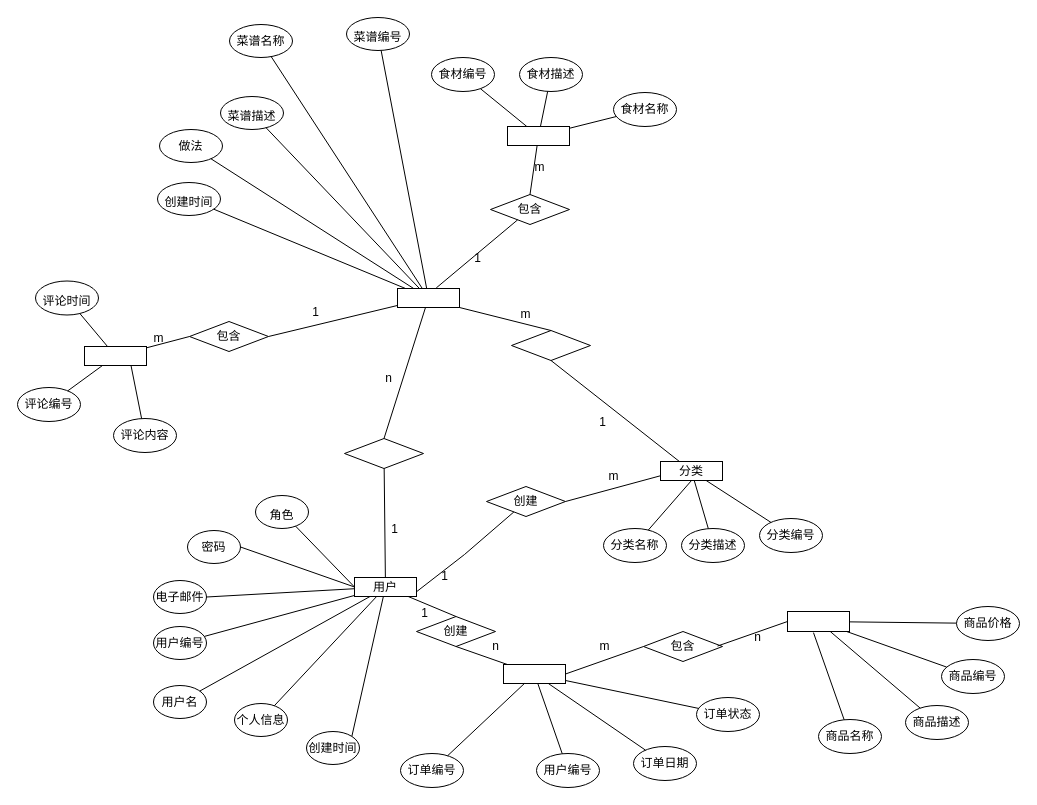
This 1037x805 diagram has some shape labels left out. The shapes that lost their labels are listed below. From the top down, each one's centre as x and y in pixels, then its label:
At point 538,136: "食材".
At point 428,298: "菜谱".
At point 115,356: "评论".
At point 550,345: "属于".
At point 384,453: "分享".
At point 818,621: "商品".
At point 534,674: "订单".
